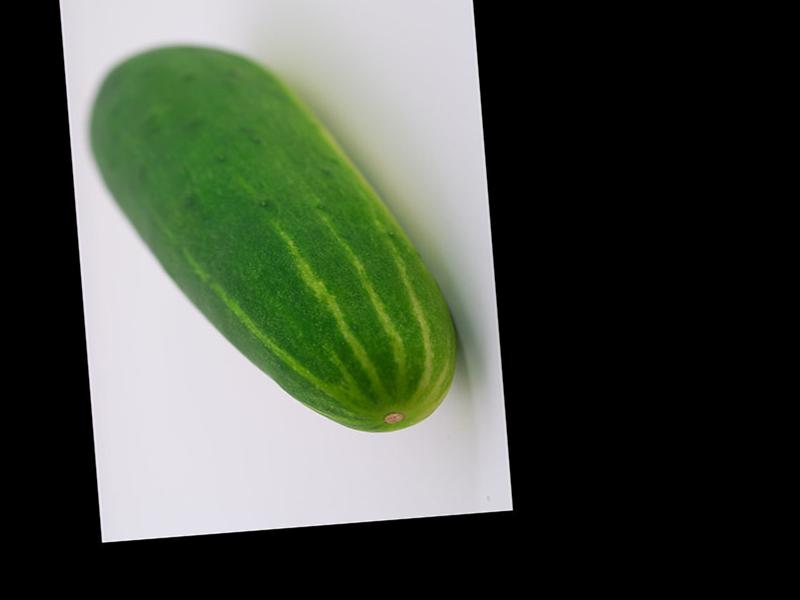Cucumber: (82, 25, 462, 452)
